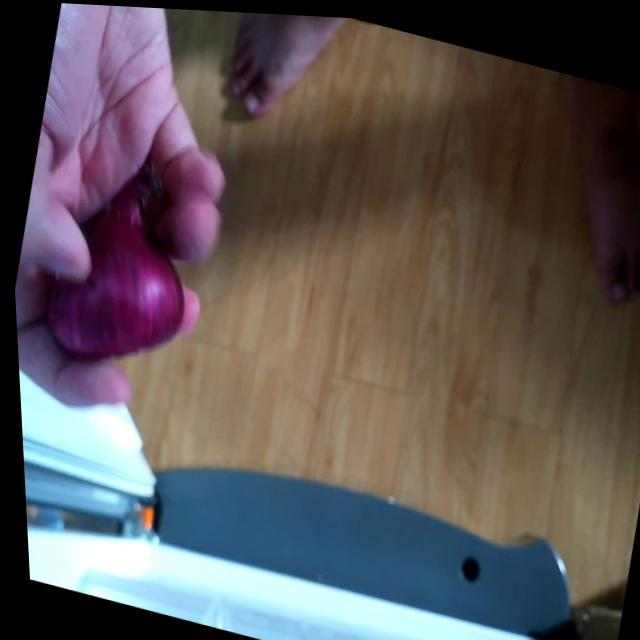onion: (26, 155, 213, 383)
